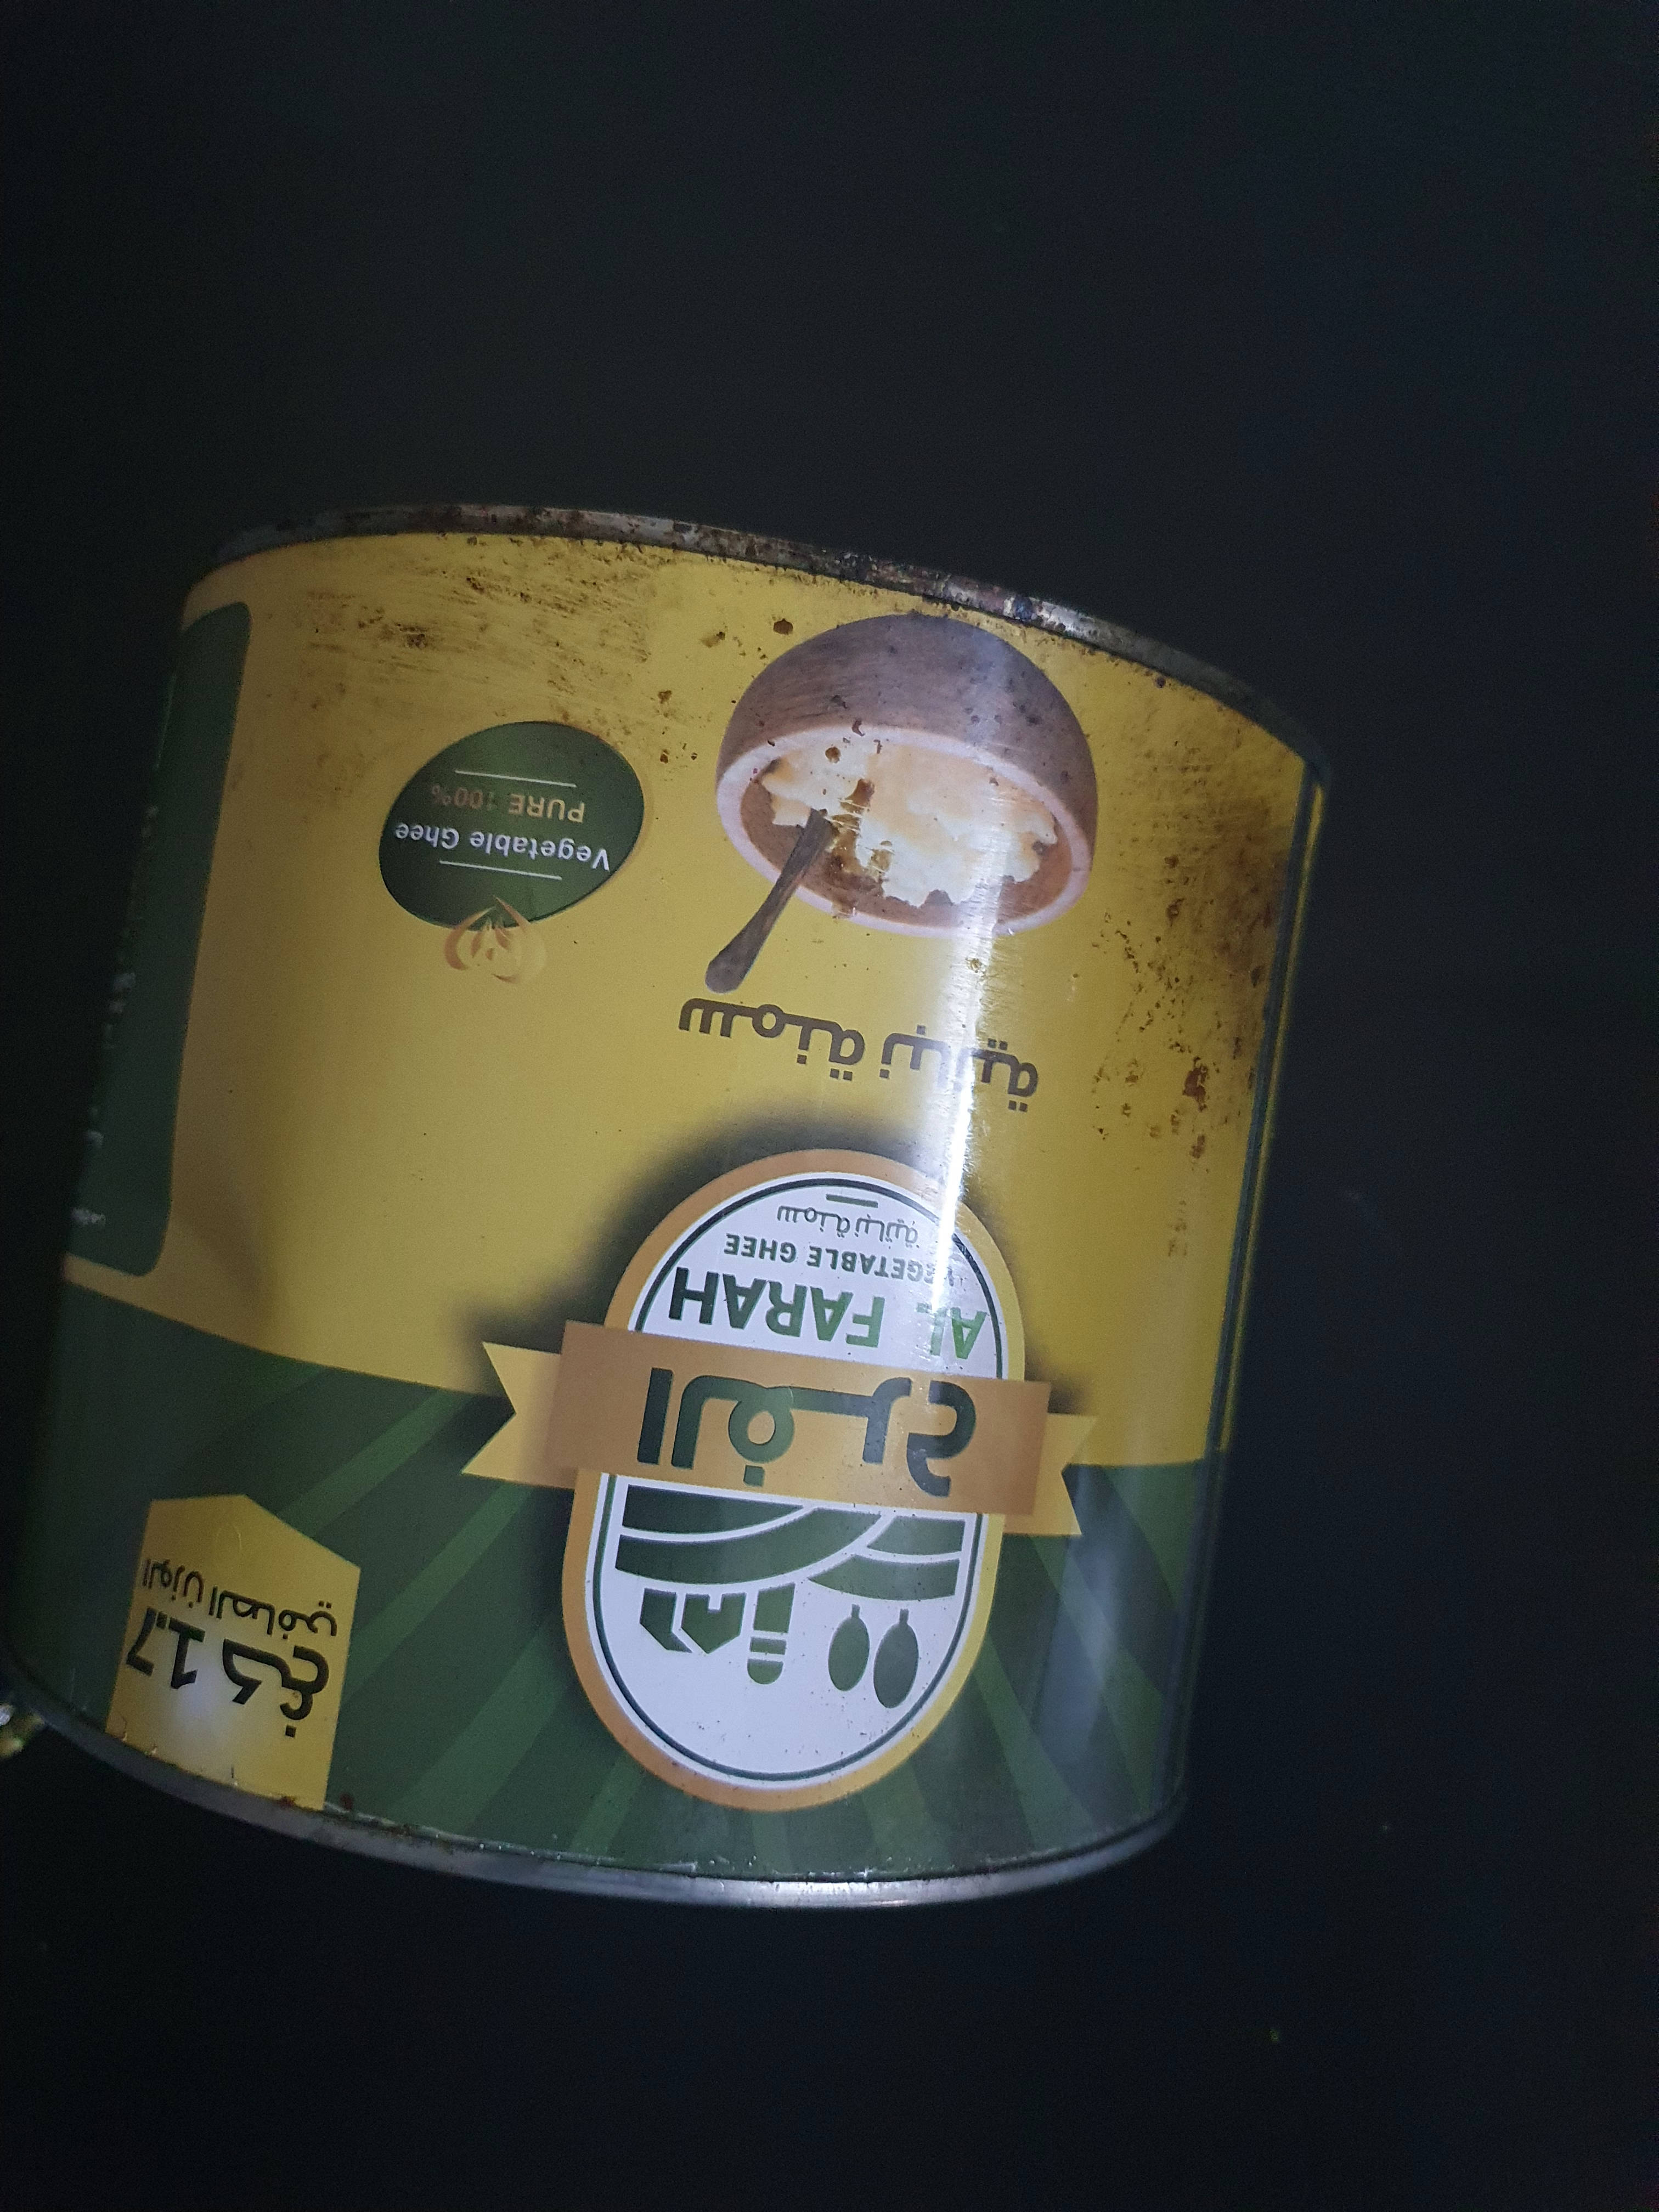metal: (9, 390, 1328, 1933)
